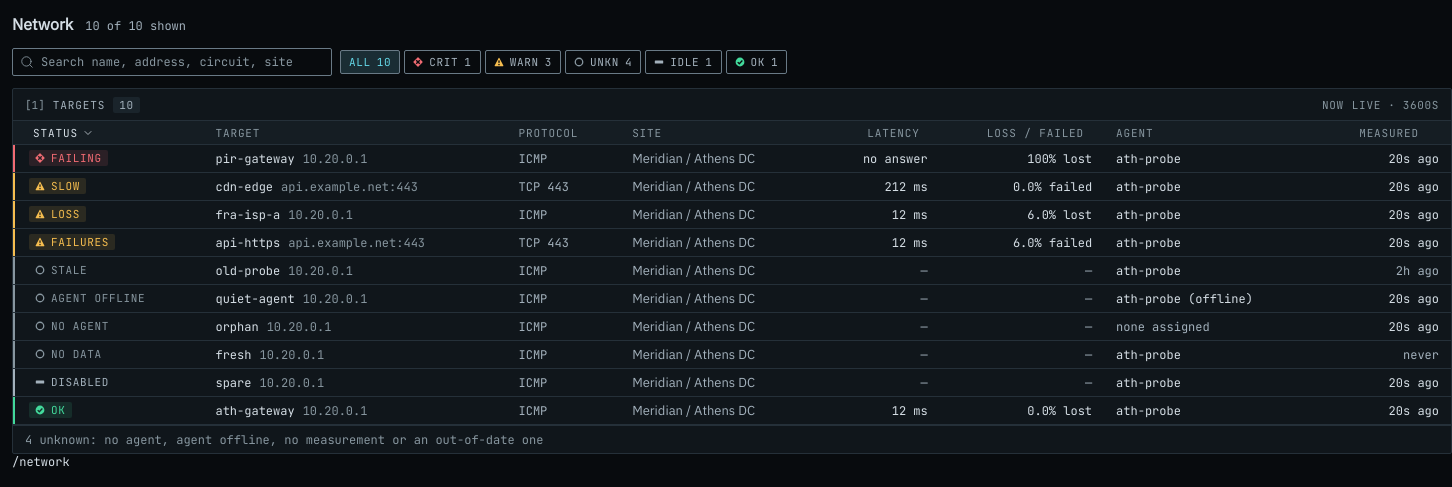
Test: the query › searches with a pause, and keeps the search in the URL
Type "gate" into the search field named "Search targets" at (172, 62), box x1=12 y1=48 x2=332 y2=76
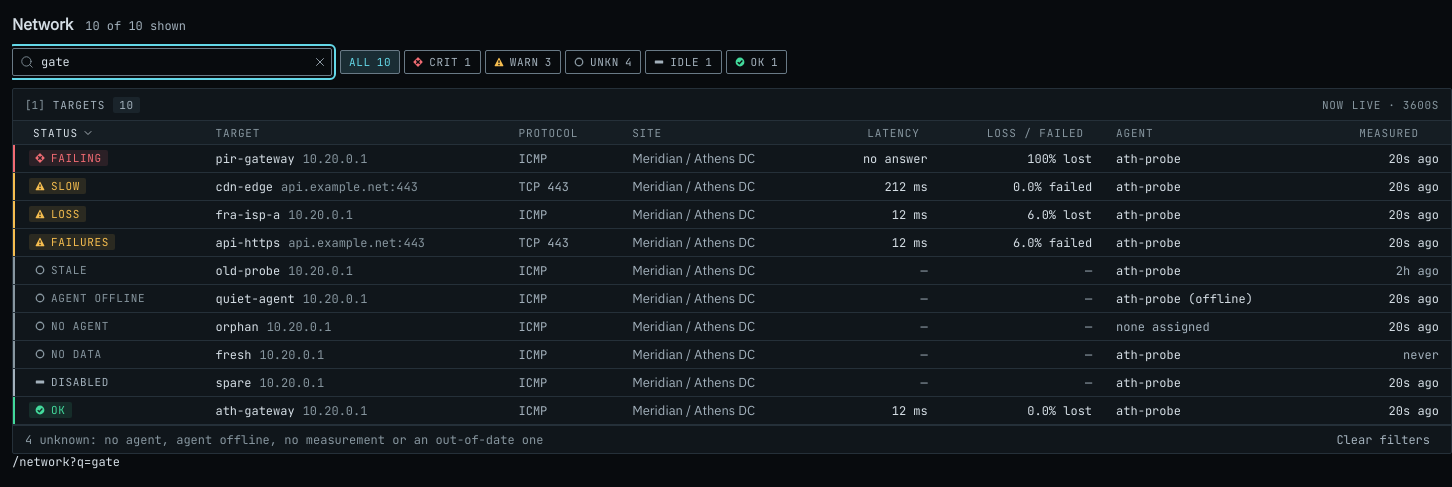
Expected: the text named "location" reads "/network?q=gate", x1=12 y1=454 x2=120 y2=470
